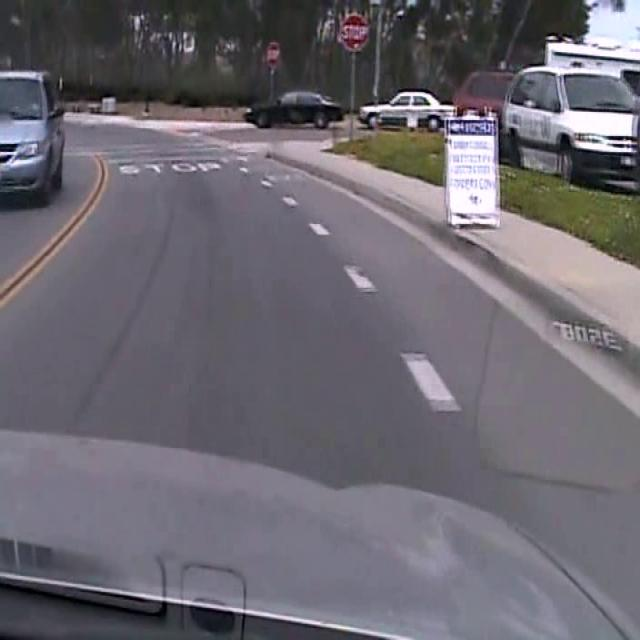stop_sign: (340, 10, 369, 50), (265, 40, 281, 68)
